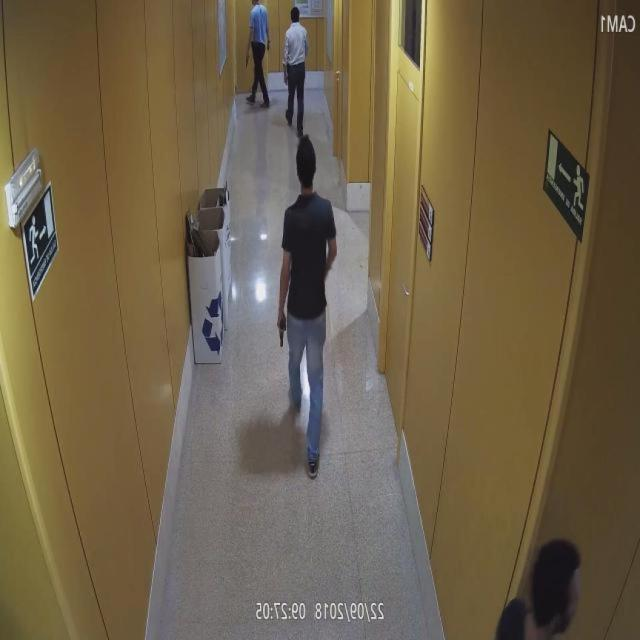pistol: (276, 310, 288, 350), (243, 51, 252, 69)
